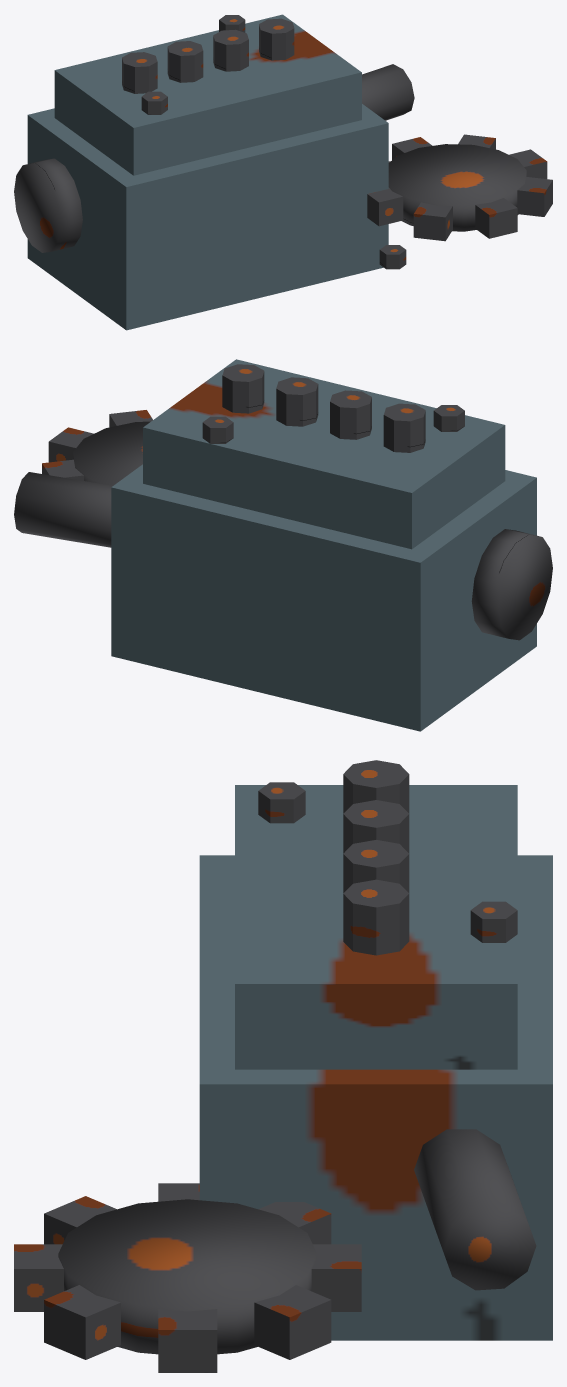
File: scrap_engine_parts.glb
3 renders of one model, top to bottom at view 1: azimuth 30°, elevation 25°; view 2: azimuth 150°, elevation 25°; view 3: azimuth 270°, elevation 25°, orthographic. The views are drawn at different scales.
Parts seen in each view (by area): view 1: EngineBlock, EngineHead, GearDisc, Pulley, Exhaust, Cap.001, GearTooth.006, Cap.002, Cap.003, Cap, GearTooth.005, GearTooth.007 (+6 smaller); view 2: EngineBlock, EngineHead, Pulley, Exhaust, GearDisc, Cap, Cap.002, Cap.003, Cap.001, GearTooth, Bolt, Bolt.001 (+2 smaller); view 3: EngineBlock, EngineHead, GearDisc, Exhaust, Cap.003, GearTooth.001, GearTooth.007, GearTooth, GearTooth.002, GearTooth.006, Cap.002, Cap.001 (+6 smaller).
Boxes of the visible parts, x1,y1,x2,y2 form: EngineBlock: (27, 104, 388, 330); EngineHead: (54, 14, 361, 175); GearDisc: (388, 144, 526, 231); Pulley: (14, 158, 82, 252); Exhaust: (362, 64, 414, 120); Cap.001: (167, 41, 203, 82); GearTooth.006: (475, 198, 517, 238); Cap.002: (213, 29, 248, 71); Cap.003: (259, 18, 294, 60); Cap: (122, 52, 157, 93); GearTooth.005: (413, 202, 452, 241); GearTooth.007: (517, 177, 552, 216); EngineBlock: (111, 464, 536, 731); EngineHead: (143, 359, 505, 549); Pulley: (471, 529, 552, 640); Exhaust: (14, 472, 112, 547); GearDisc: (73, 421, 150, 485); Cap: (383, 403, 425, 452); Cap.002: (276, 377, 318, 426); Cap.003: (222, 364, 264, 413); Cap.001: (330, 390, 371, 439); GearTooth: (48, 427, 93, 462); Bolt: (202, 416, 233, 443); Bolt.001: (433, 405, 464, 431); EngineBlock: (199, 855, 552, 1340); EngineHead: (235, 785, 517, 1069); GearDisc: (58, 1199, 317, 1354); Exhaust: (414, 1129, 536, 1290); Cap.003: (343, 879, 409, 955); GearTooth.001: (254, 1285, 331, 1359); GearTooth.007: (44, 1285, 120, 1359); GearTooth: (158, 1309, 217, 1372); GearTooth.002: (311, 1244, 361, 1311); GearTooth.006: (14, 1244, 63, 1311); Cap.002: (343, 840, 409, 892); Cap.001: (343, 800, 409, 853).
Size of the model in its own units: 0.7875 by 0.3675 by 0.4575.
Materials: 20 (20 with a texture image).
